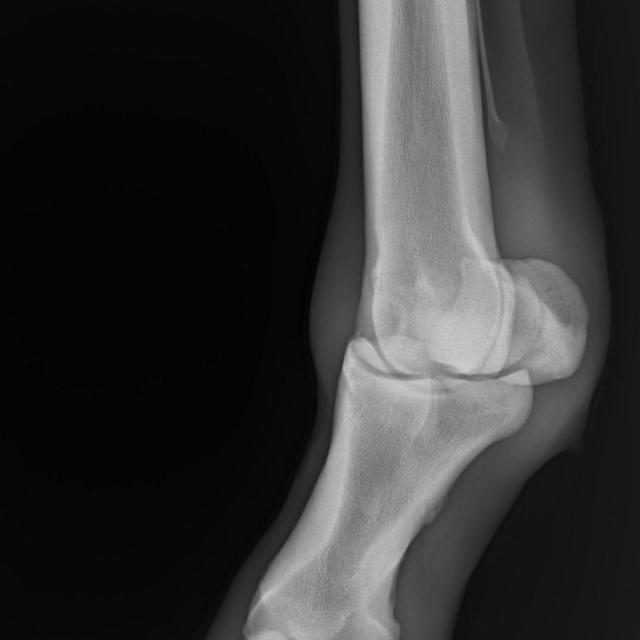joint-ht8A: (313, 213, 619, 470)
